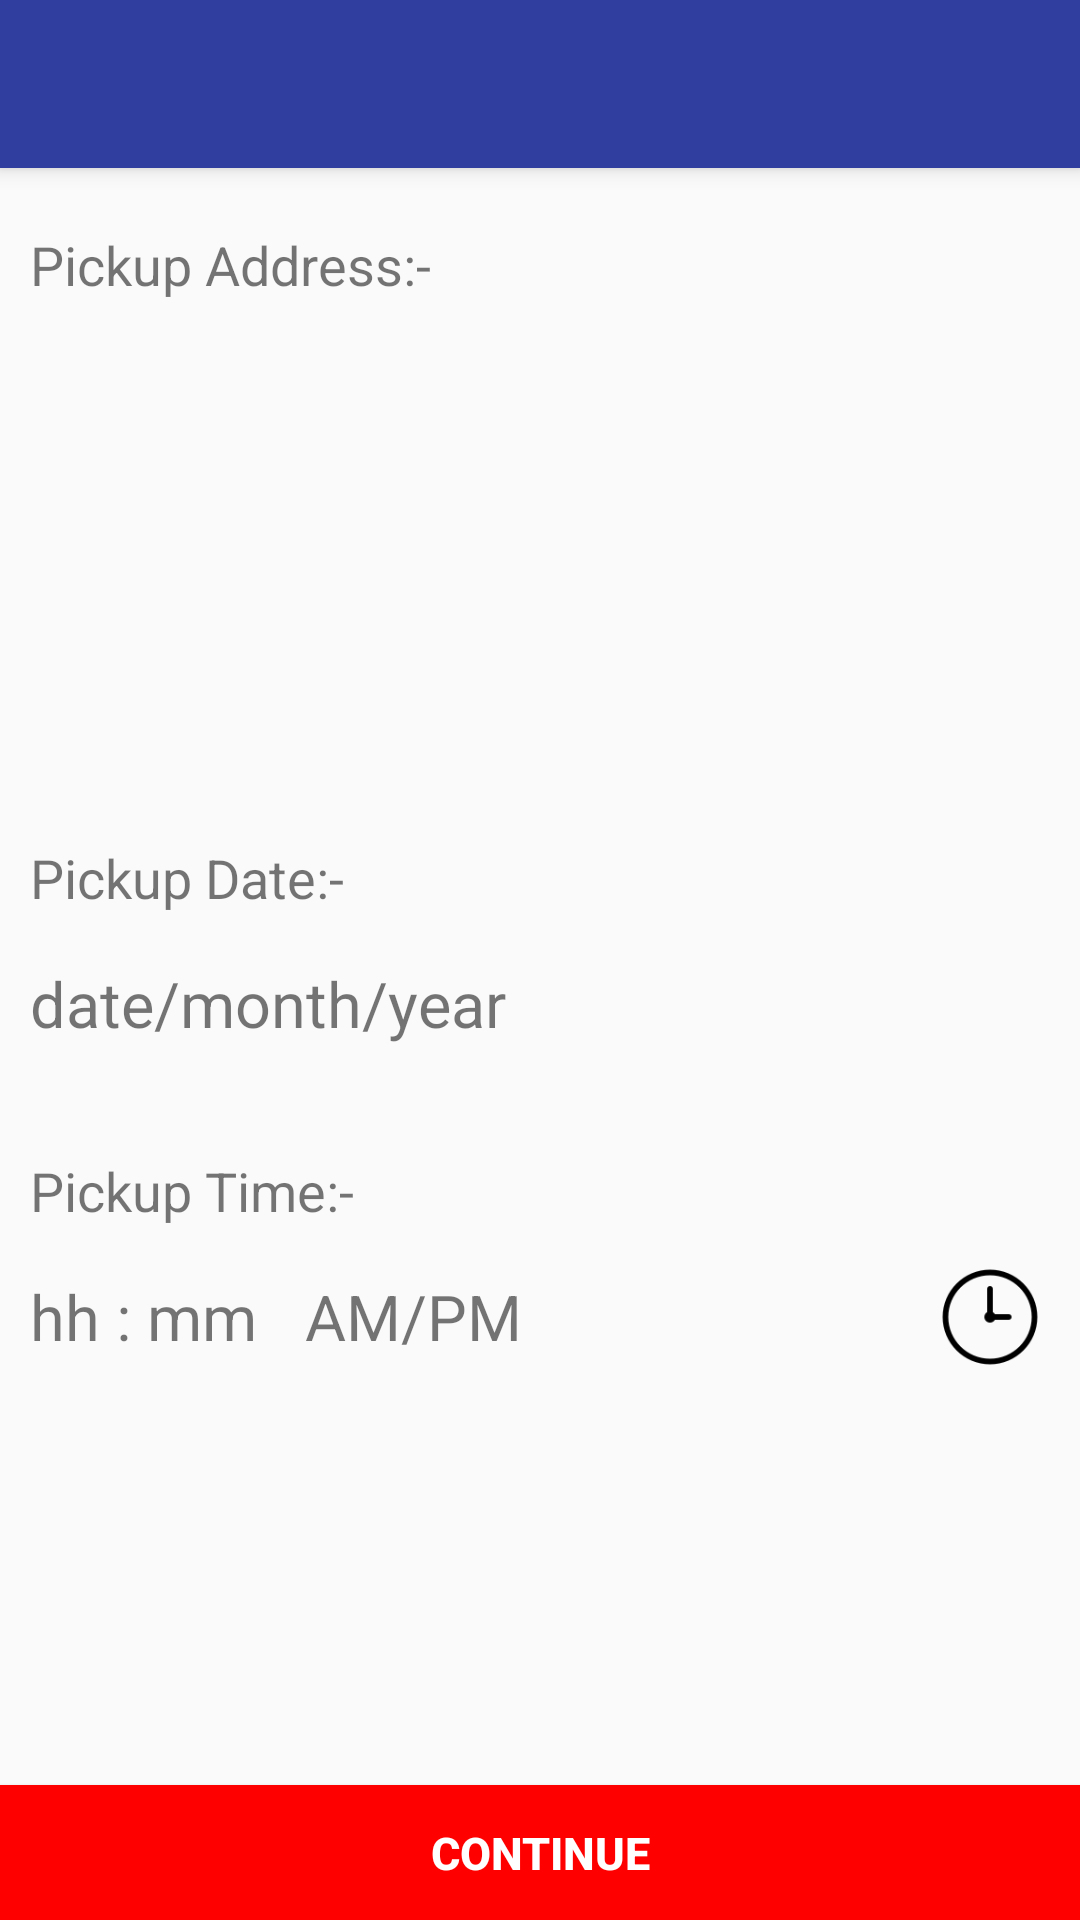

Where icons sit on this 1080px x 1920px app screen, as BBox(x1, y1, x2, y2):
clock: BBox(942, 1269, 1038, 1365)
